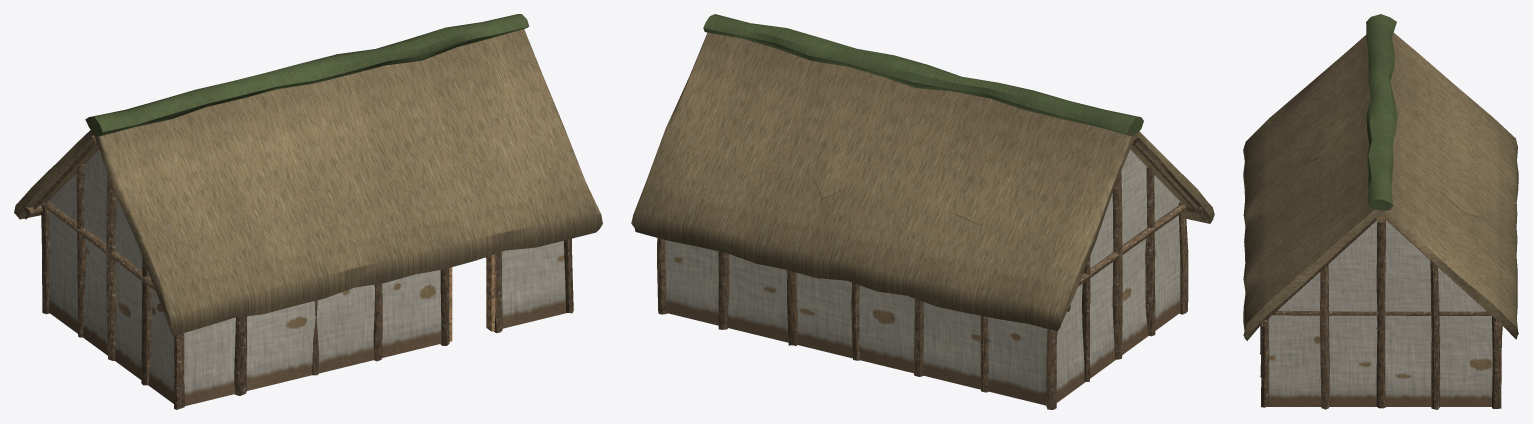
The model's file is house_005_limewash.glb.
3 renders of one model, left to right at view 1: azimuth 30°, elevation 25°; view 2: azimuth 150°, elevation 25°; view 3: azimuth 270°, elevation 25°, orthographic. The views are drawn at different scales.
Parts seen in each view (by area): view 1: Roof, Wall, Frame, DoorRecess; view 2: Roof, Wall, Frame; view 3: Roof, Wall, Frame.
Boxes of the visible parts, x1,y1,x2,y2 form: Roof: (14, 14, 602, 335); Wall: (49, 149, 566, 406); Frame: (24, 135, 573, 409); DoorRecess: (448, 254, 494, 341); Roof: (631, 14, 1214, 331); Wall: (665, 149, 1180, 405); Frame: (657, 136, 1205, 409); Roof: (1243, 14, 1518, 340); Wall: (1268, 220, 1492, 406); Frame: (1260, 214, 1502, 409).
Bounding box in the file's own units: 9.39 × 5.18 × 5.88.
Materials: 3 (3 with a texture image).
